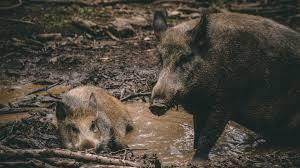wildboar: (147, 8, 300, 167), (55, 84, 134, 154)
